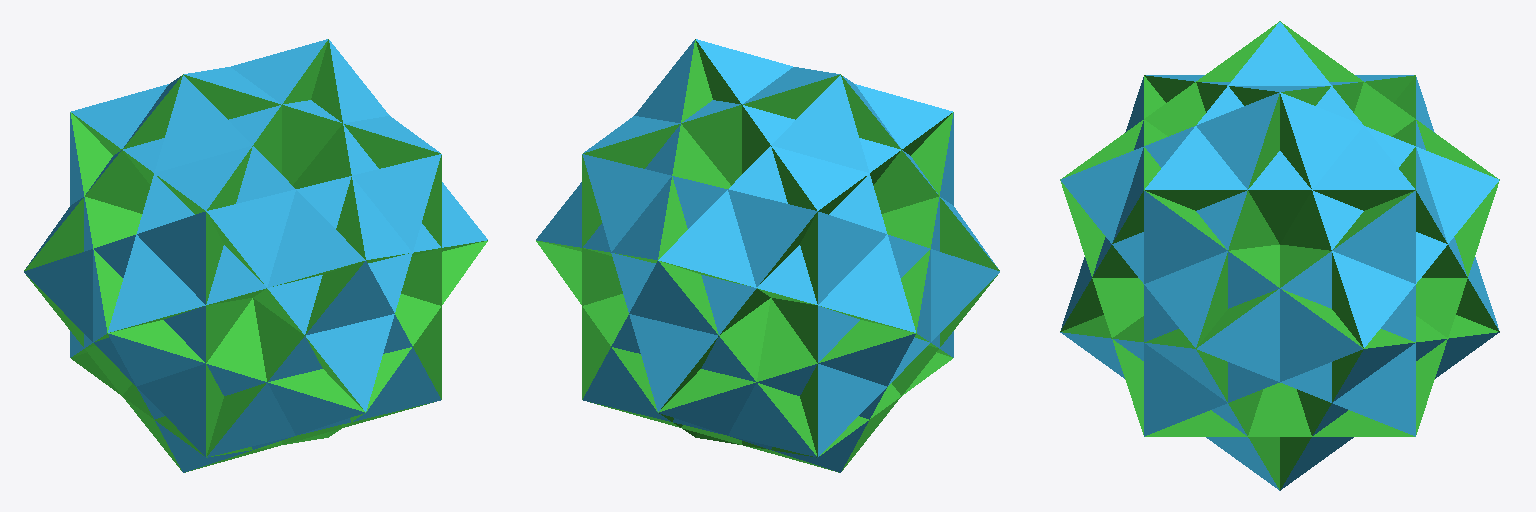
Rendered from GreatDitrigonalIcosidodecahedron.obj.
3 views of the same model, side by side, from view 1: azimuth 30°, elevation 25°; view 2: azimuth 150°, elevation 25°; view 3: azimuth 270°, elevation 25° (orthographic).
Size of the model in its own units: 1.62 by 1.62 by 1.62.